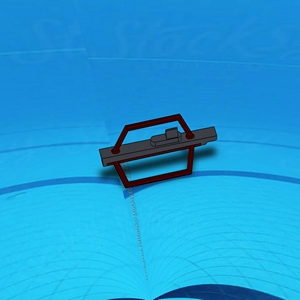submarine: (98, 114, 219, 189)
